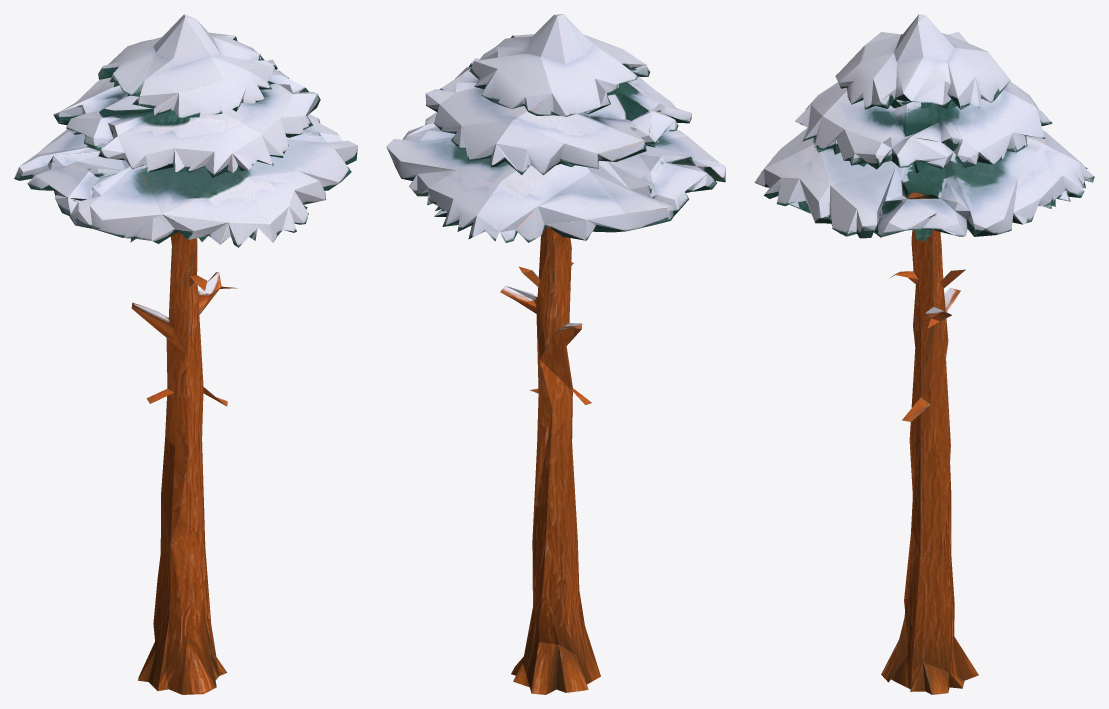
Rendered from tree_pine_winter.glb.
3 views of the same model, side by side, from view 1: azimuth 30°, elevation 25°; view 2: azimuth 150°, elevation 25°; view 3: azimuth 270°, elevation 25° (orthographic).
Visible parts, largest first — view 1: Mesh_0; view 2: Mesh_0; view 3: Mesh_0.
Boxes of the visible parts, x1,y1,x2,y2 form: Mesh_0: (14,14,357,694); Mesh_0: (386,14,725,694); Mesh_0: (754,14,1094,694).
Bounding box in the file's own units: 0.8555 × 1.9 × 0.8861.
Materials: 1 (1 with a texture image).
